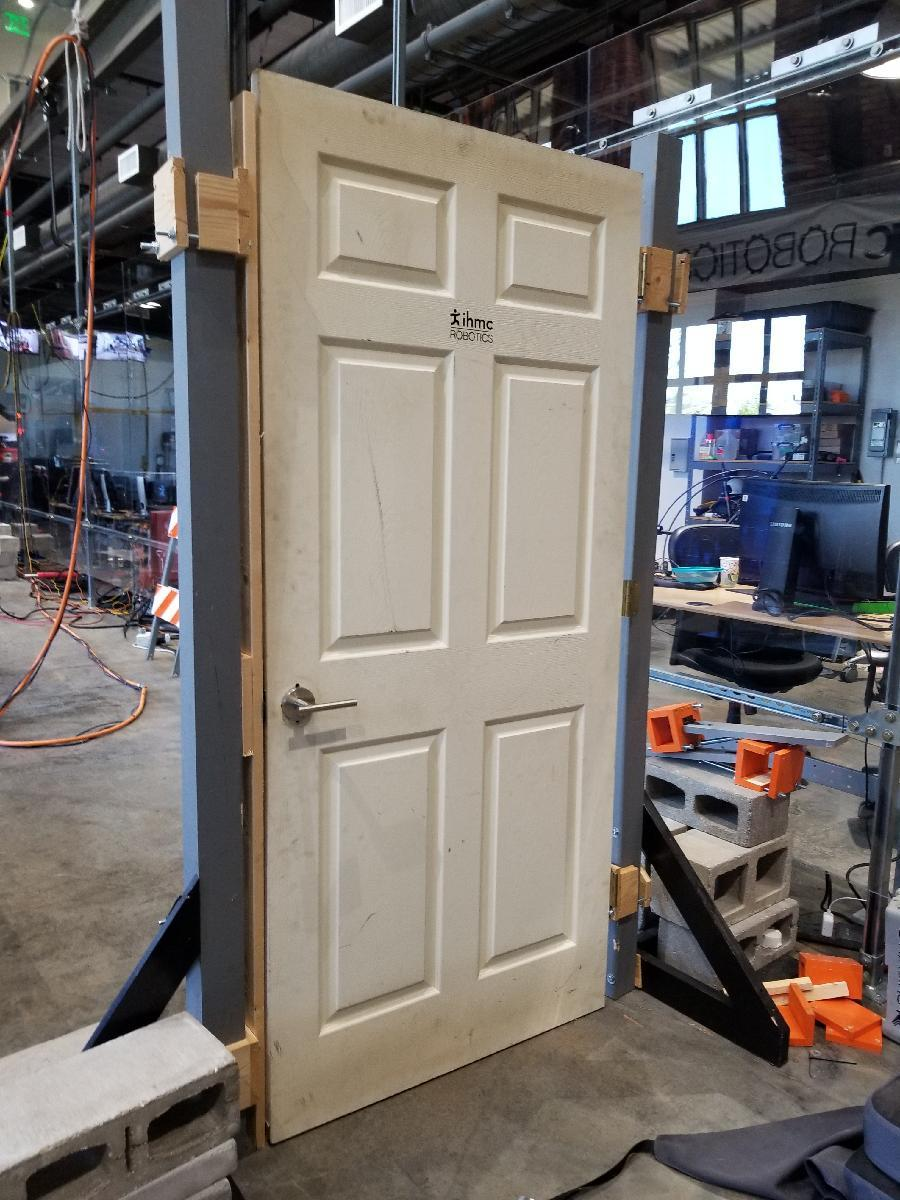door: (244, 63, 612, 1089)
handle: (278, 676, 362, 734)
